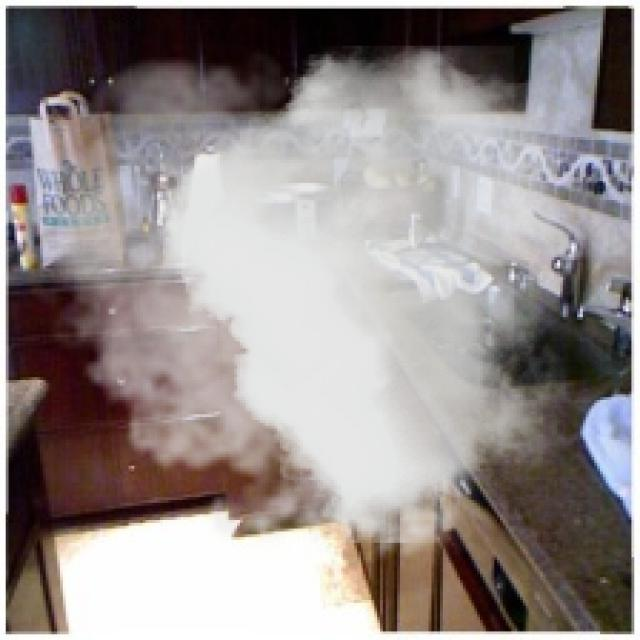smoke: (17, 46, 572, 574)
